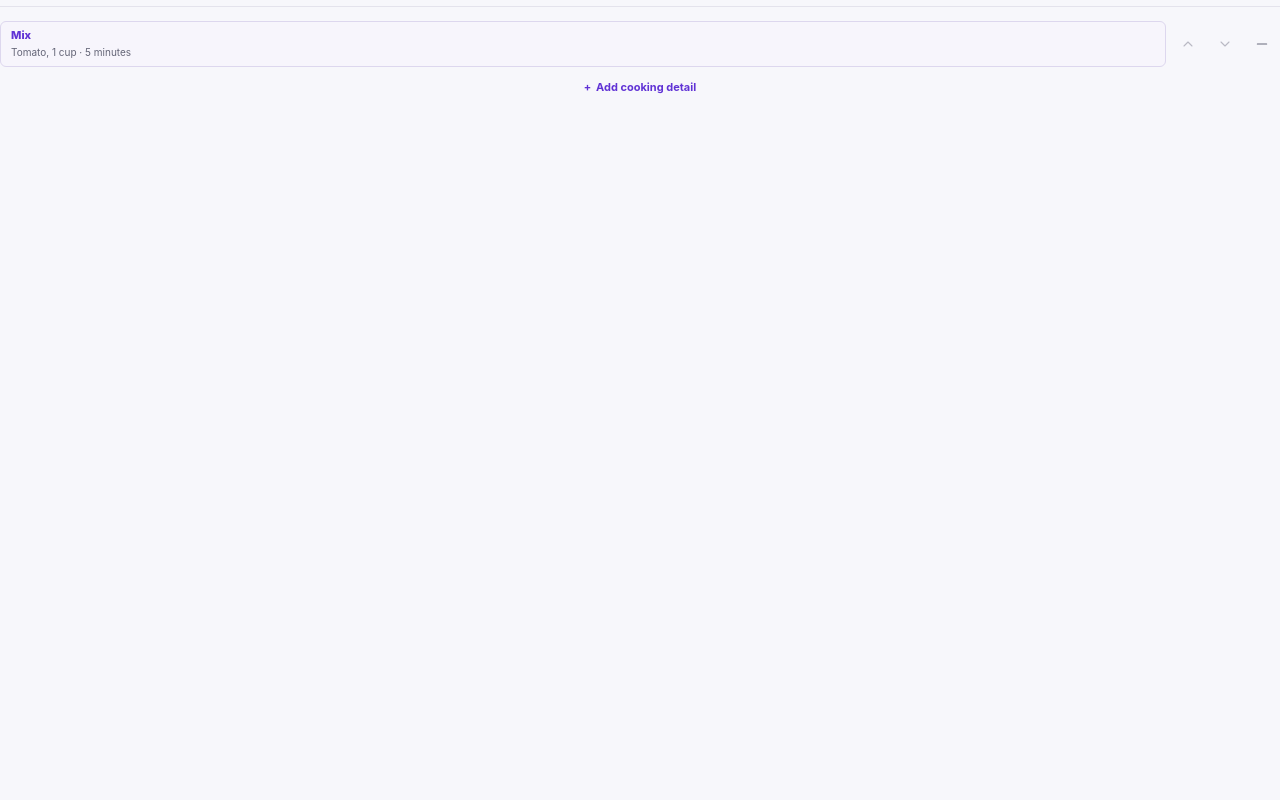
Test: StructuredActionEditor › keeps existing cooking details compact until their floating editor is opened
Check: the dropdown labelled "Cooking action" is not shown
Click the button with aria-label "Edit cooking detail 1 for Step 1". click: click(71, 52)
box: [0, 21, 1166, 67]
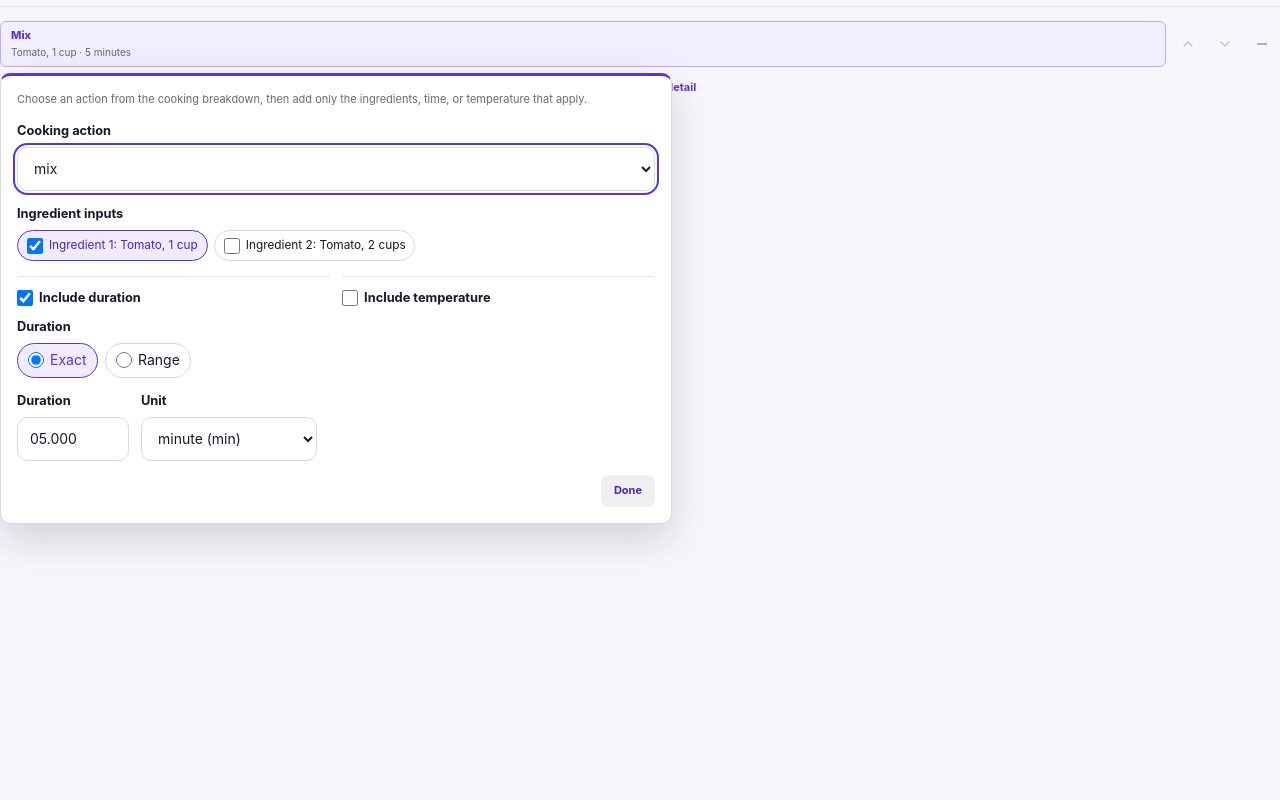
Check: the dialog named "Cooking detail 1 for Step 1" shows "cooking breakdown", box [17, 92, 587, 106]
